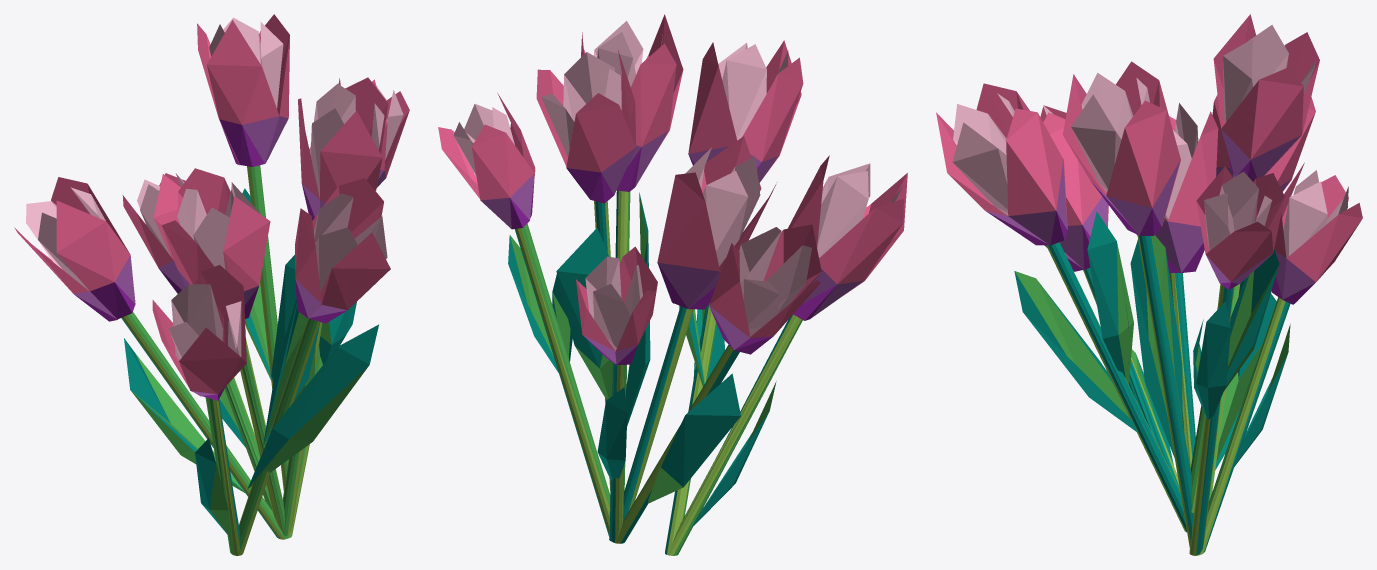
The model's file is flower-2zT-C10njmX.glb.
3 renders of one model, left to right at view 1: azimuth 30°, elevation 25°; view 2: azimuth 150°, elevation 25°; view 3: azimuth 270°, elevation 25°, orthographic. The views are drawn at different scales.
Parts seen in each view (by area): view 1: group1524081558; view 2: group1524081558; view 3: group1524081558.
Boxes of the visible parts, x1=… form: group1524081558: x1=14, y1=14, x2=409, y2=555; group1524081558: x1=438, y1=14, x2=907, y2=555; group1524081558: x1=936, y1=14, x2=1362, y2=555.
Bounding box in the file's own units: 0.9708 × 1.25 × 0.9118.
1 material, 1 textured.
